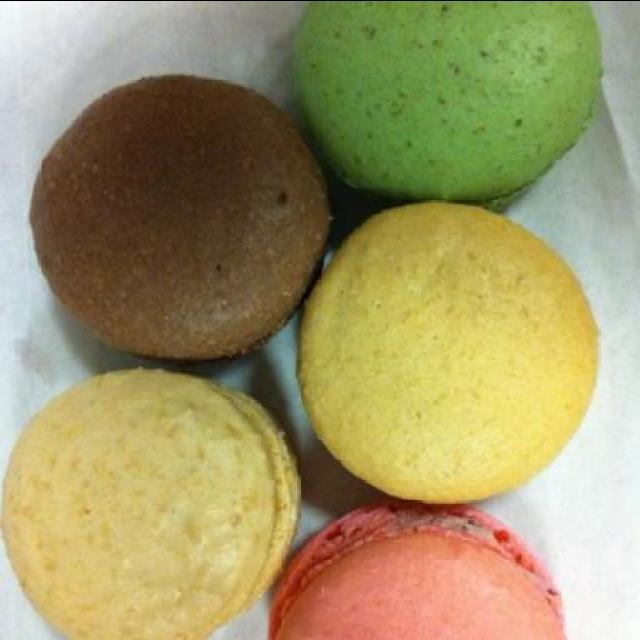Macaron: (1, 0, 608, 638)
